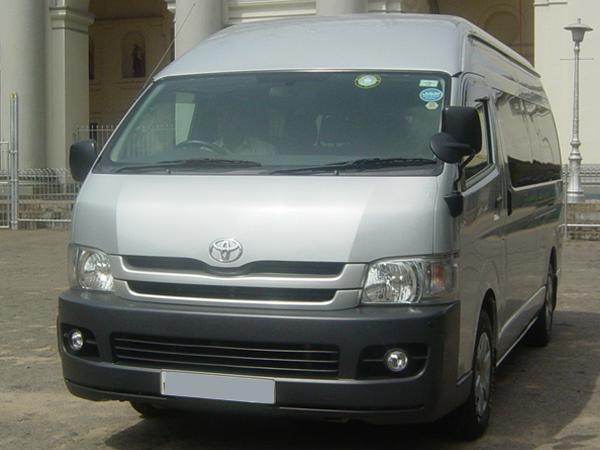car: (54, 14, 567, 440)
